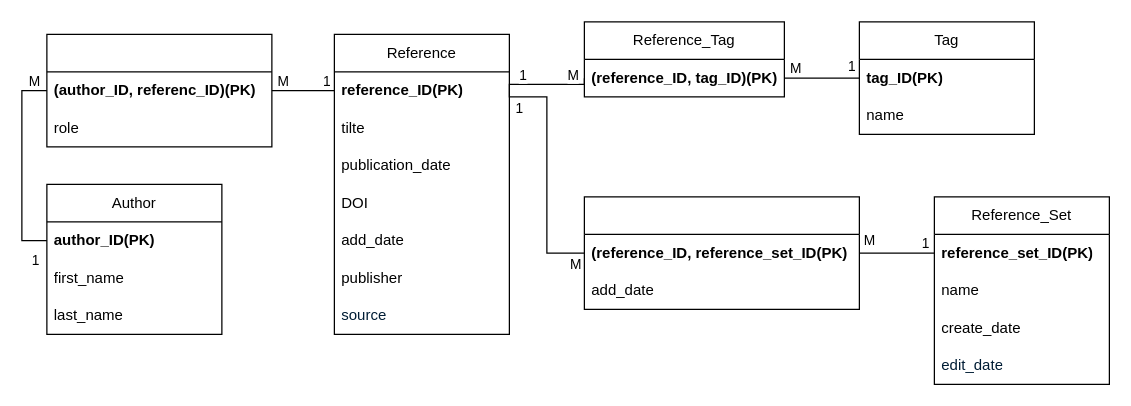
This 1131x406 diagram has some shape labels left out. The shapes that lost their labels are listed below. From the top down, each one's box as (x1, y1, x2, y2) in pixels, then its label:
(46, 33, 272, 147): Author_ Reference
(583, 196, 859, 309): Reference_Reference_Set
